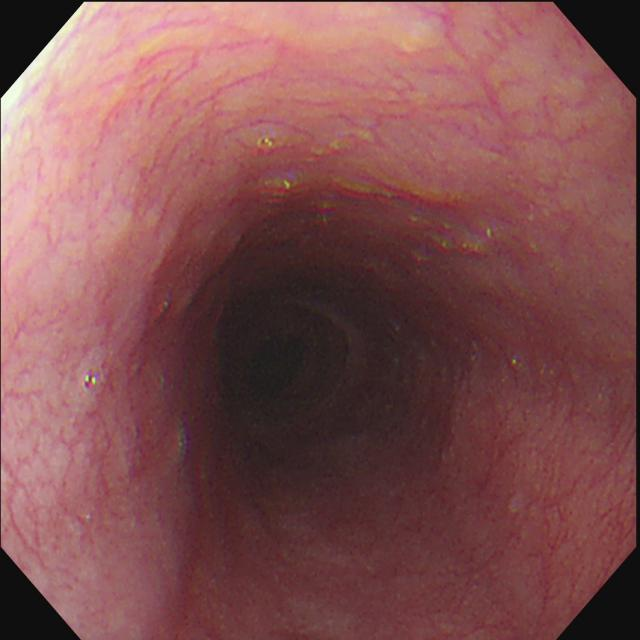E: (231, 277, 363, 424)
T: (75, 369, 106, 397), (254, 137, 281, 156)
